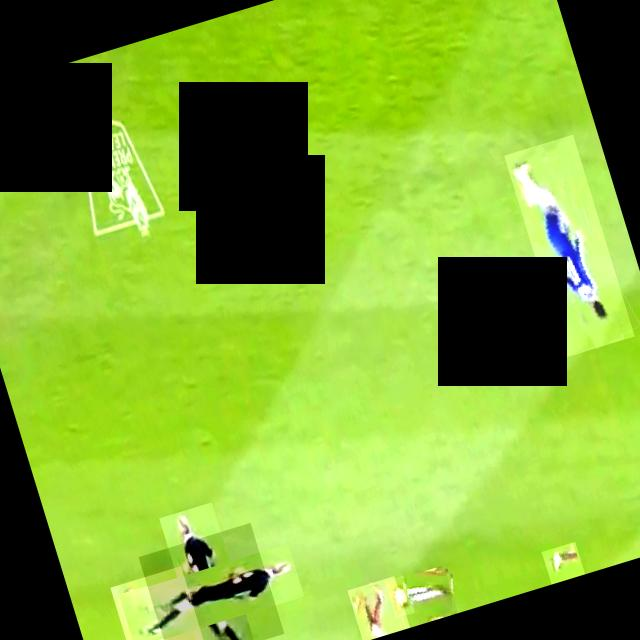ball: (384, 575, 415, 618)
soccer-player: (503, 134, 634, 357), (138, 522, 284, 640), (109, 565, 217, 640), (394, 562, 462, 628), (347, 575, 410, 640), (542, 541, 584, 584)
